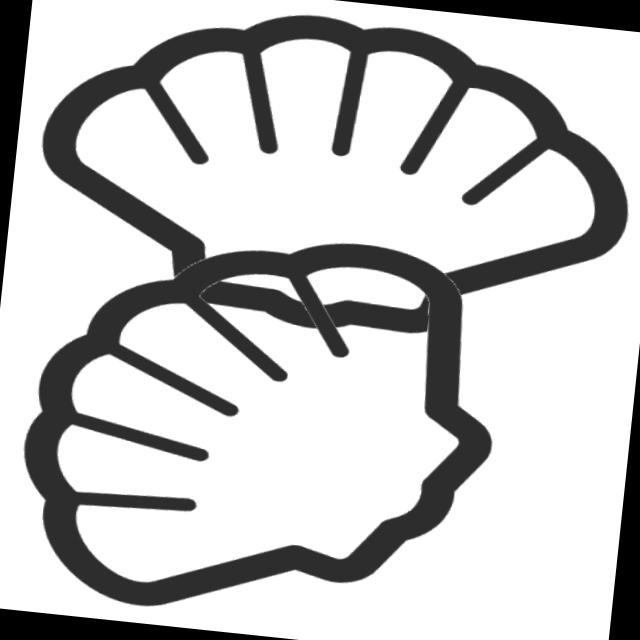shell: (1, 199, 537, 640), (14, 1, 640, 368)
